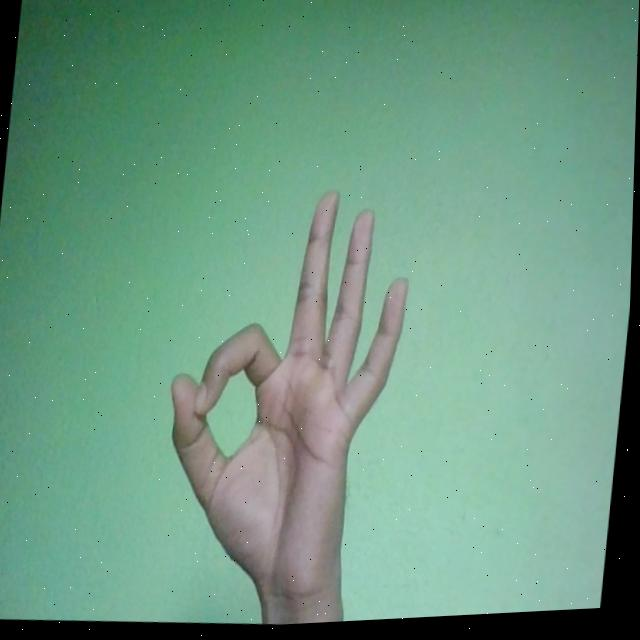Ok: (151, 181, 420, 627)
